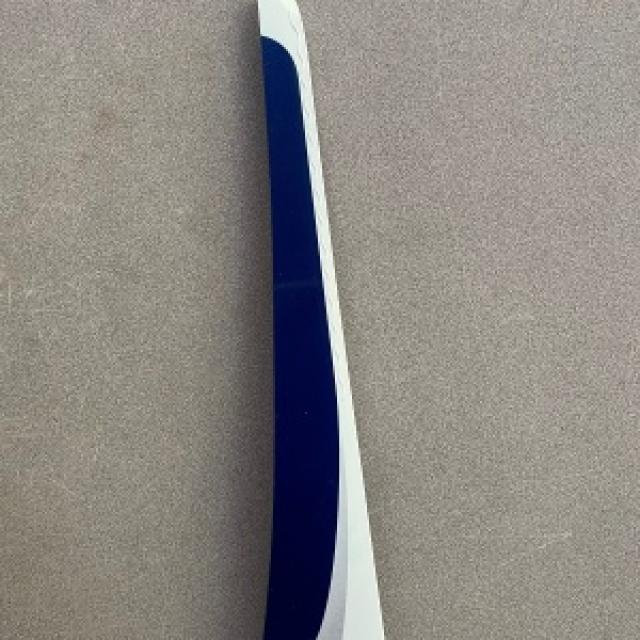healthy: (0, 0, 269, 638), (256, 0, 382, 638)
